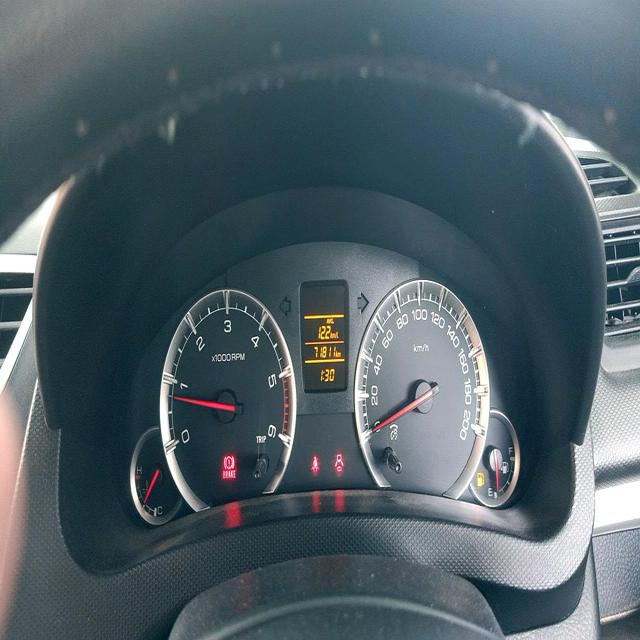odometer: (312, 342, 336, 360)
